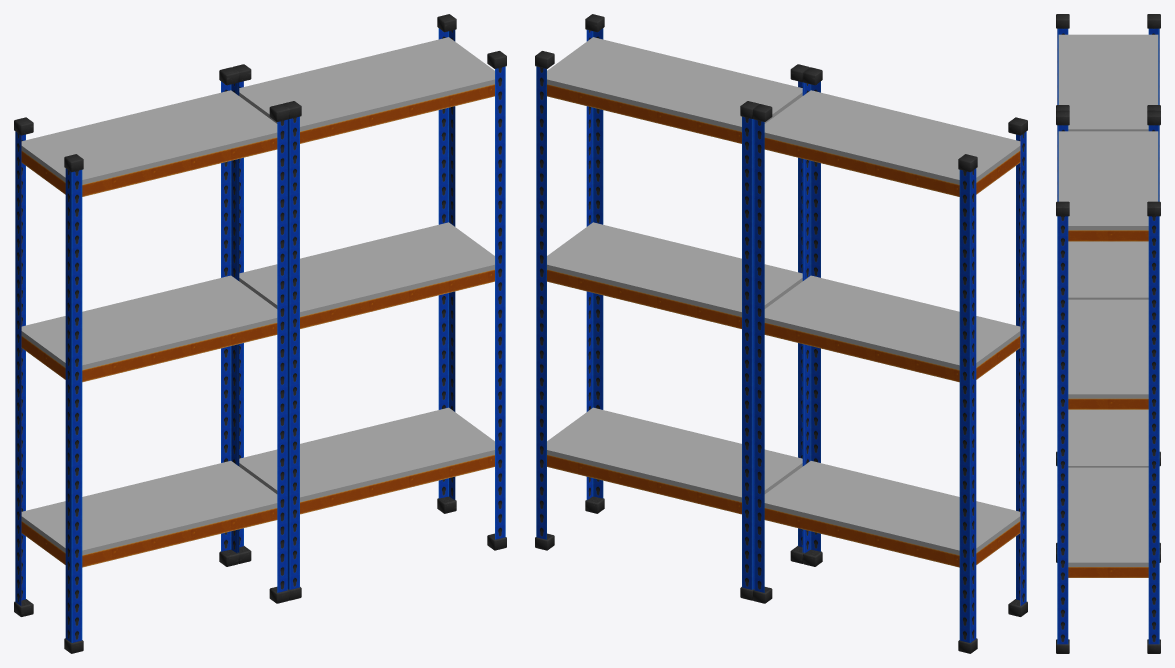
Rendered from shelf_0_5m.dae.
3 renders of one model, left to right at view 1: azimuth 30°, elevation 25°; view 2: azimuth 150°, elevation 25°; view 3: azimuth 270°, elevation 25°, orthographic. The views are drawn at different scales.
Parts seen in each view (by area): view 1: Cupboard_2_2_Shelves; view 2: Cupboard_2_2_Shelves; view 3: Cupboard_2_2_Shelves.
Boxes of the visible parts, box(x1,y1,x2,y2) form: Cupboard_2_2_Shelves: box(14, 14, 506, 653); Cupboard_2_2_Shelves: box(535, 14, 1027, 653); Cupboard_2_2_Shelves: box(1056, 14, 1160, 653).
Bounding box in the file's own units: 2.46 × 0.5641 × 2.66.
2 materials, 1 textured.
